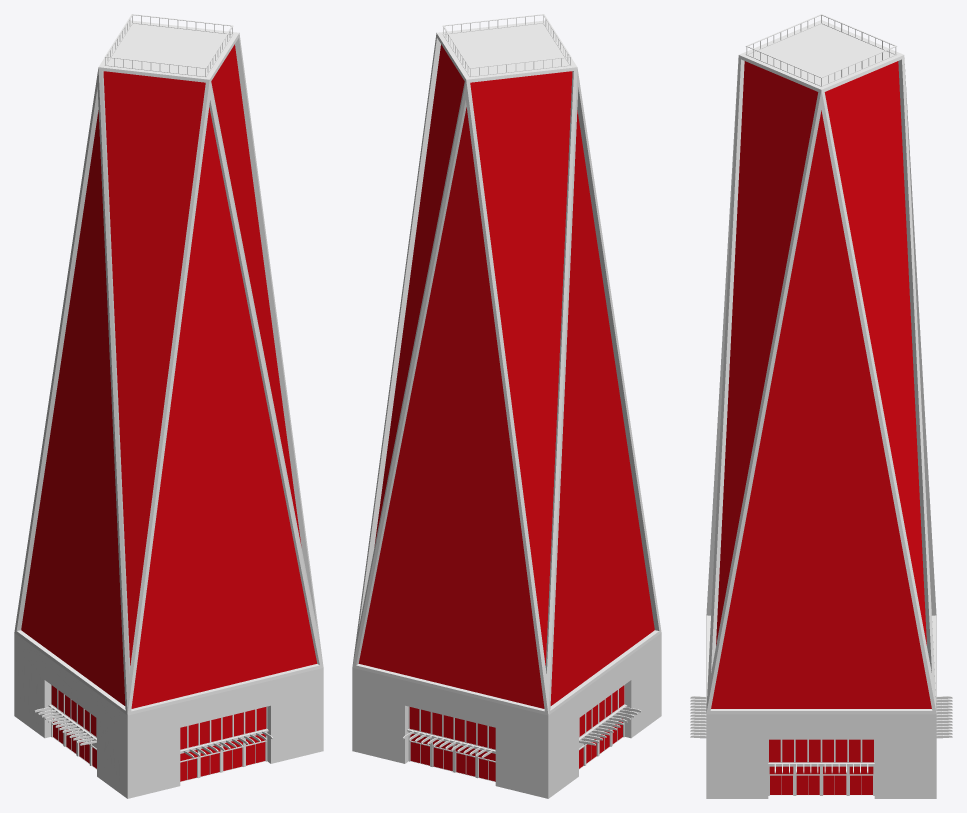
The model's file is SM_skyscraper_04.glb.
3 renders of one model, left to right at view 1: azimuth 30°, elevation 25°; view 2: azimuth 150°, elevation 25°; view 3: azimuth 270°, elevation 25°, orthographic.
Visible parts, largest first — view 1: skyscraper_04; view 2: skyscraper_04; view 3: skyscraper_04.
Boxes of the visible parts, x1,y1,x2,y2 form: skyscraper_04: (14, 14, 323, 798); skyscraper_04: (352, 14, 661, 798); skyscraper_04: (690, 14, 952, 798).
Bounding box in the file's own units: 28 × 83.05 × 28.
